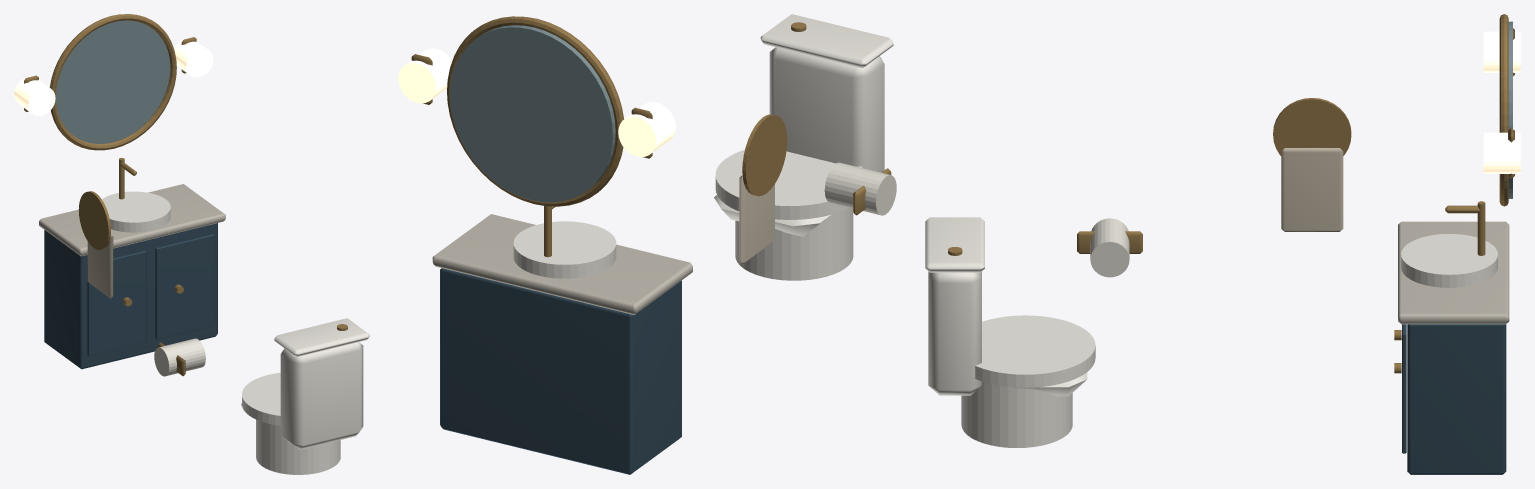
The model's file is half-bath-furniture-v002.glb.
3 renders of one model, left to right at view 1: azimuth 30°, elevation 25°; view 2: azimuth 150°, elevation 25°; view 3: azimuth 270°, elevation 25°, orthographic. The views are drawn at different scales.
Visible parts, largest first — view 1: Export Powder vanity case; view 2: Export Powder vanity case; view 3: Export Powder vanity case.
Boxes of the visible parts, x1,y1,x2,y2 form: Export Powder vanity case: [14, 14, 369, 474]; Export Powder vanity case: [398, 14, 896, 474]; Export Powder vanity case: [925, 14, 1520, 474].
Bounding box in the file's own units: 1.43 × 2.19 × 2.89.
